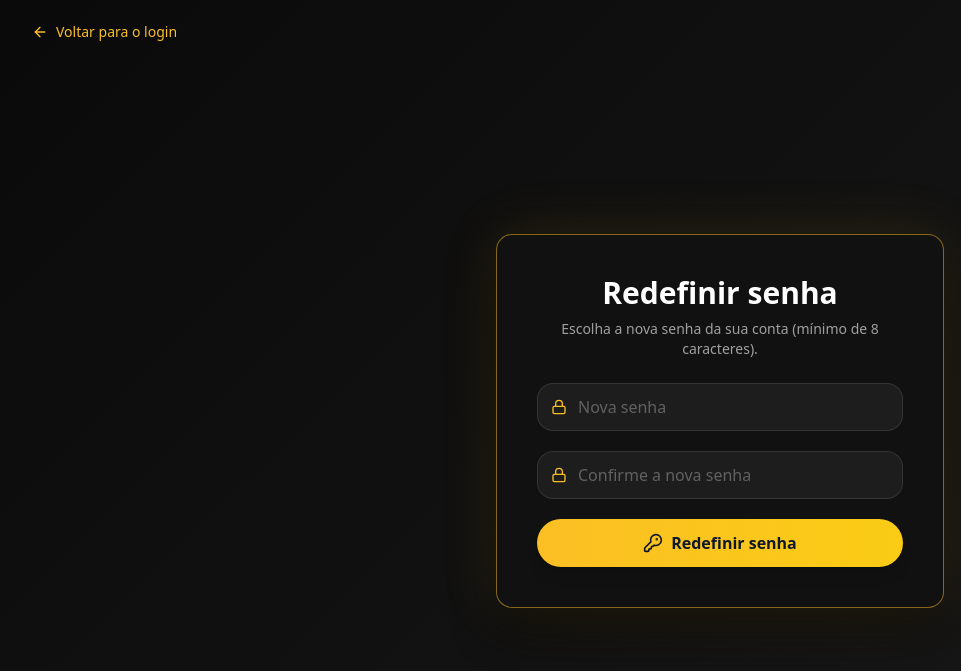
Test: RedefinirSenha › confirmação diferente da senha é recusada
Type "senha-forte-1" into the password field with placeholder "Nova senha" at (720, 407), box 537,383 -> 903,431
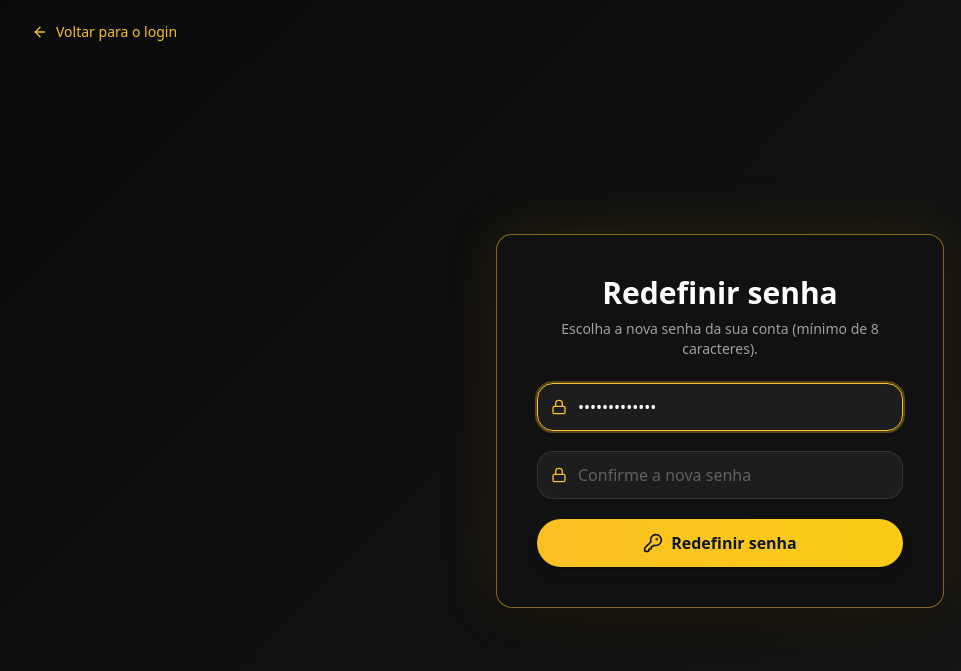
Type "senha-forte-2" into the password field with placeholder "Confirme a nova senha" at (720, 475), box 537,451 -> 903,499
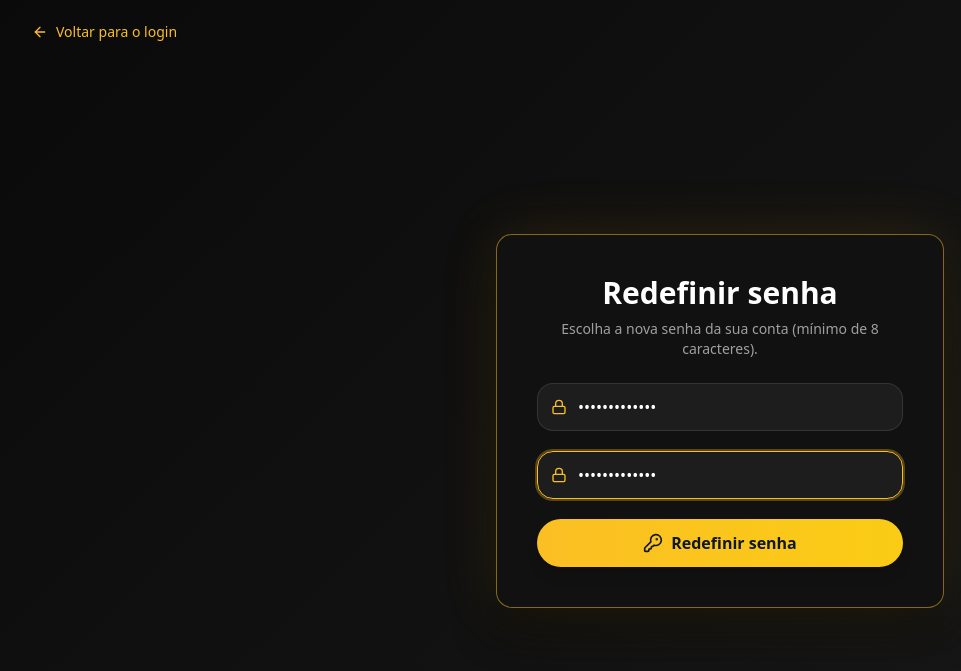
Click the button "Redefinir senha" at (720, 543), box 537,519 -> 903,567
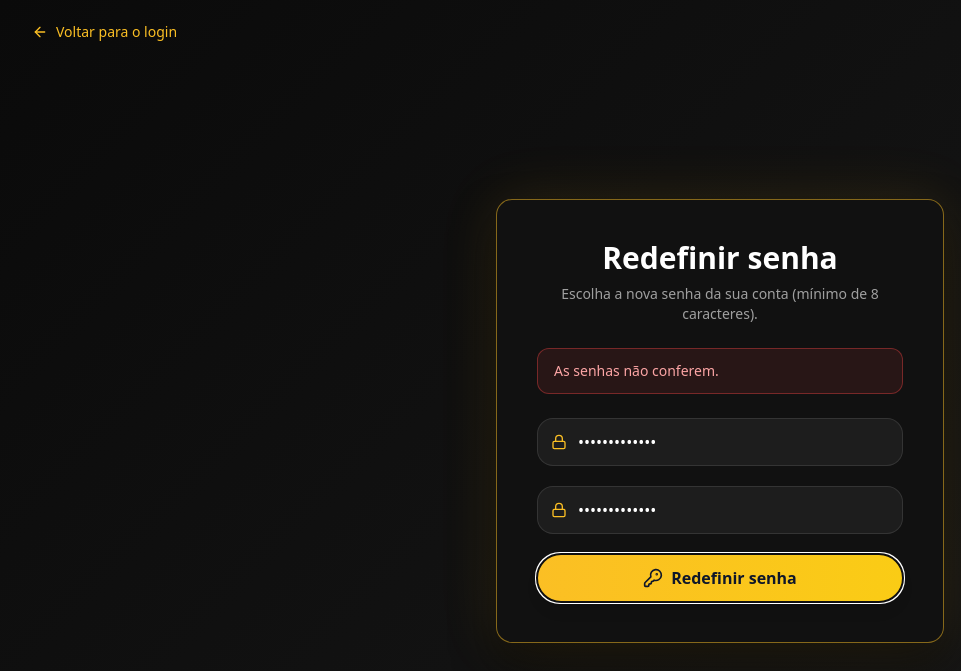
Now the text "As senhas não conferem." is shown, box 537,348 -> 903,394
